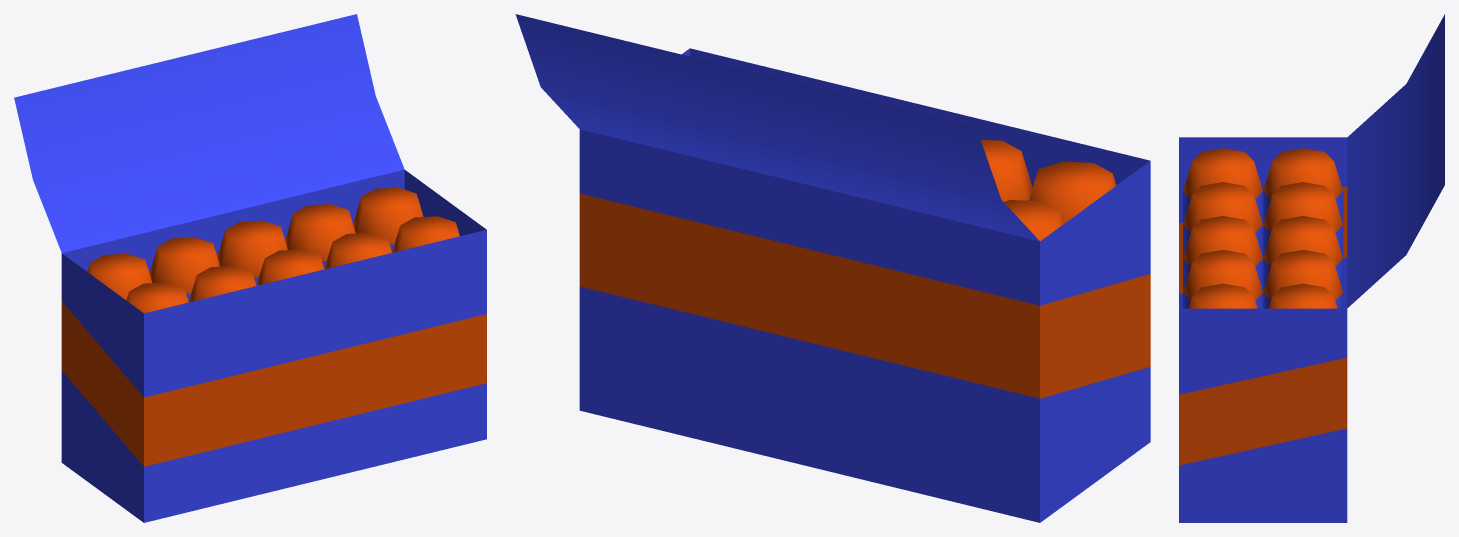
The model's file is toygun_bulletbox.glb.
3 renders of one model, left to right at view 1: azimuth 30°, elevation 25°; view 2: azimuth 150°, elevation 25°; view 3: azimuth 270°, elevation 25°, orthographic. The views are drawn at different scales.
Parts seen in each view (by area): view 1: toygun_bulletbox; view 2: toygun_bulletbox; view 3: toygun_bulletbox.
Part boxes in pixels (<box>): toygun_bulletbox: <box>14,14,486,522</box>; toygun_bulletbox: <box>515,14,1150,522</box>; toygun_bulletbox: <box>1179,14,1444,522</box>.
Bounding box in the file's own units: 0.1996 × 0.1837 × 0.131.
